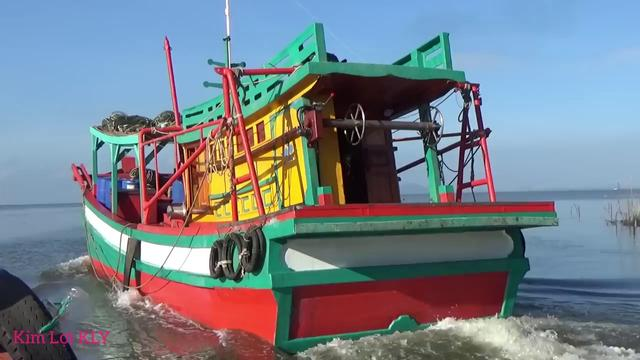Ship: (70, 24, 563, 352)
